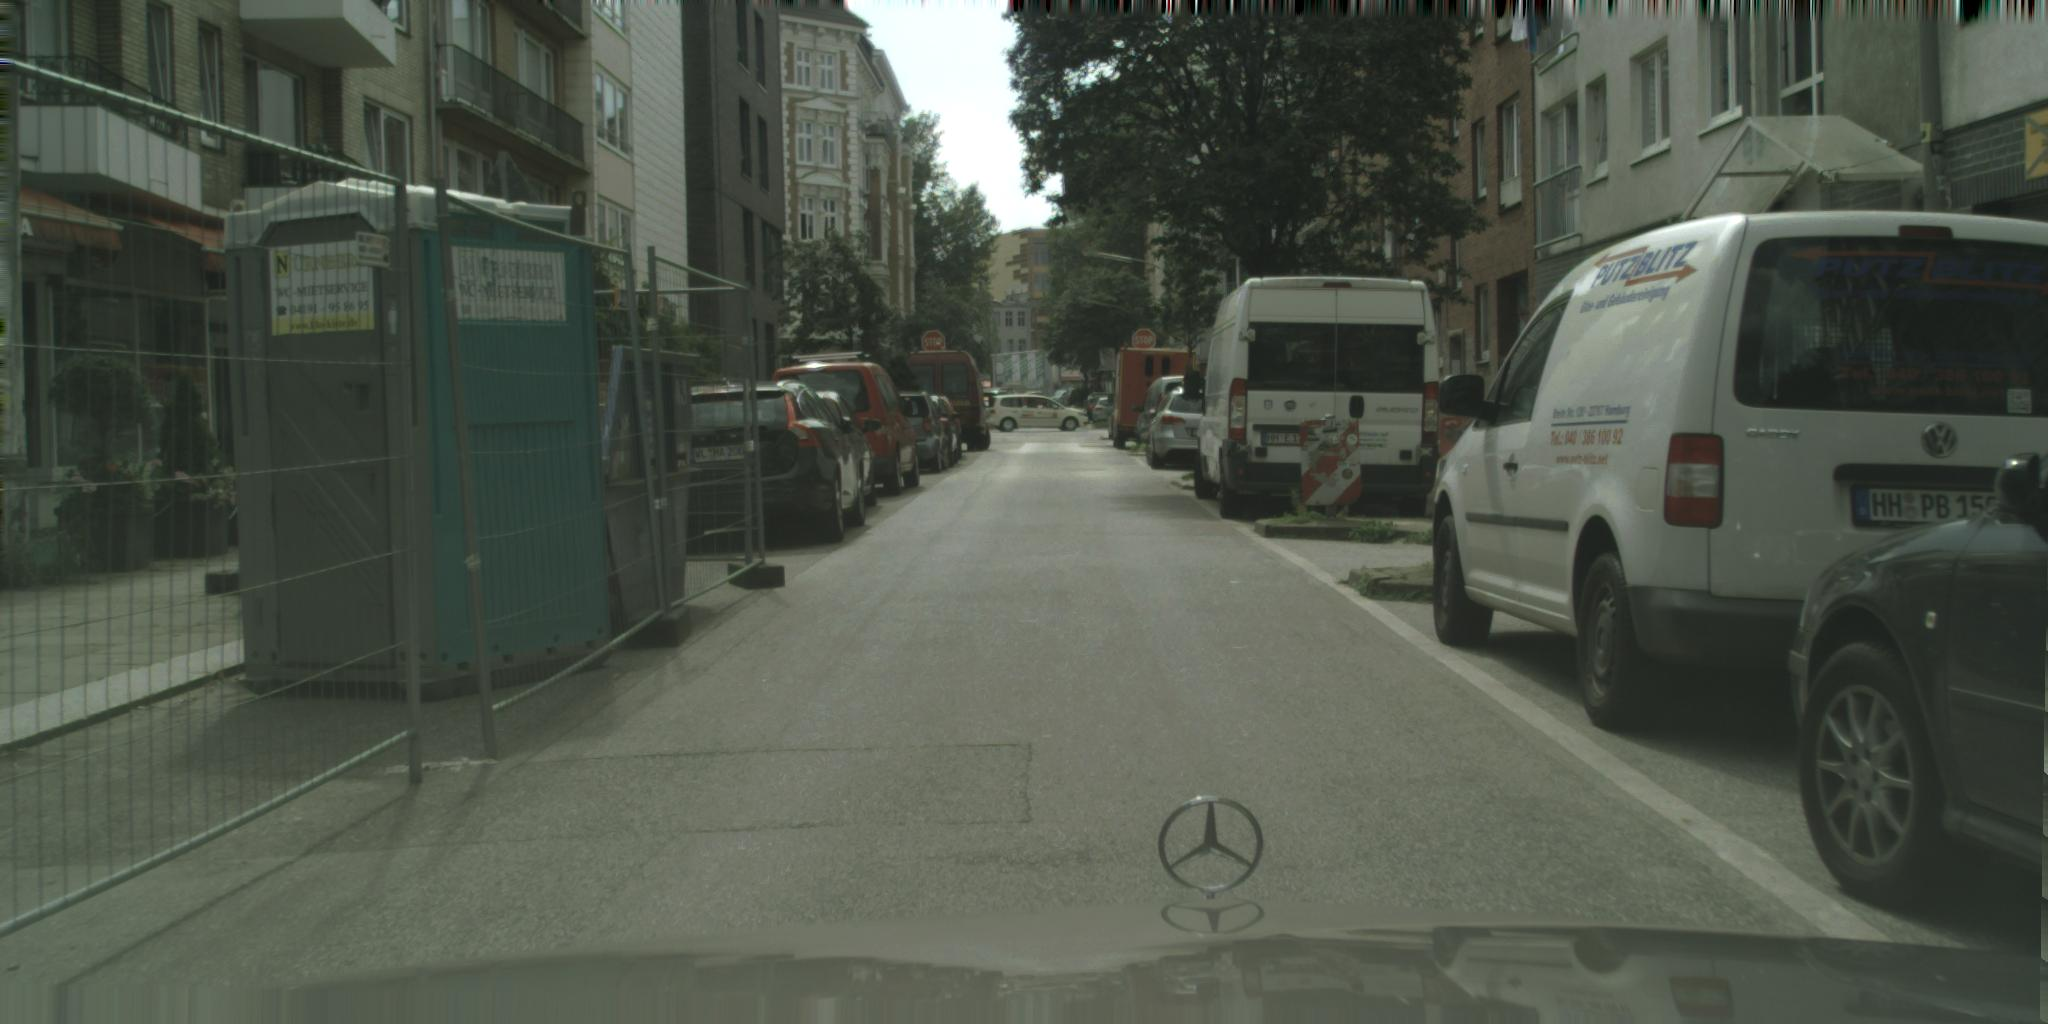car: (1433, 212, 2048, 734), (1785, 427, 2048, 909), (1195, 277, 1441, 520), (718, 379, 869, 543), (769, 351, 921, 496), (778, 391, 886, 509), (1108, 347, 1196, 452), (909, 347, 993, 452), (1145, 384, 1226, 470), (1134, 376, 1198, 455), (895, 392, 952, 473), (987, 394, 1091, 434), (921, 396, 964, 468), (939, 396, 964, 462), (1093, 396, 1125, 424), (1025, 391, 1046, 402)
